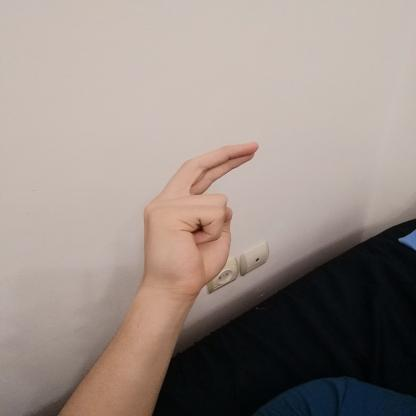ZAY: (127, 134, 268, 295)
